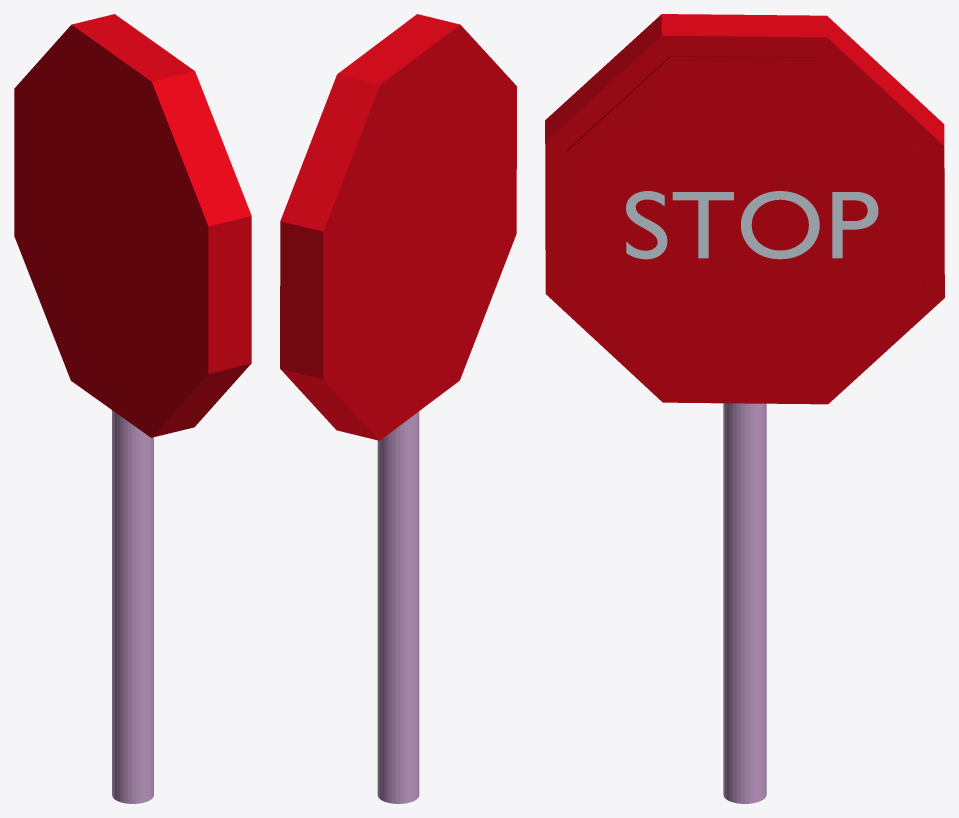
Rendered from StopSign.fbx.
The picture shows the model from 3 angles, left to right: view 1: azimuth 30°, elevation 25°; view 2: azimuth 150°, elevation 25°; view 3: azimuth 270°, elevation 25°; orthographic projection. The views are drawn at different scales.
Parts seen in each view (by area): view 1: Cylinder.001, Cylinder; view 2: Cylinder.001, Cylinder; view 3: Cylinder.001, Cylinder, Text.
Part boxes in pixels (x1=…): Cylinder.001: x1=14, y1=14, x2=251, y2=437; Cylinder: x1=112, y1=410, x2=153, y2=803; Cylinder.001: x1=280, y1=14, x2=516, y2=440; Cylinder: x1=377, y1=411, x2=419, y2=803; Cylinder.001: x1=545, y1=14, x2=944, y2=404; Cylinder: x1=723, y1=403, x2=766, y2=803; Text: x1=626, y1=191, x2=878, y2=259.
Size of the model in its own units: 23.9 by 394 by 186.
